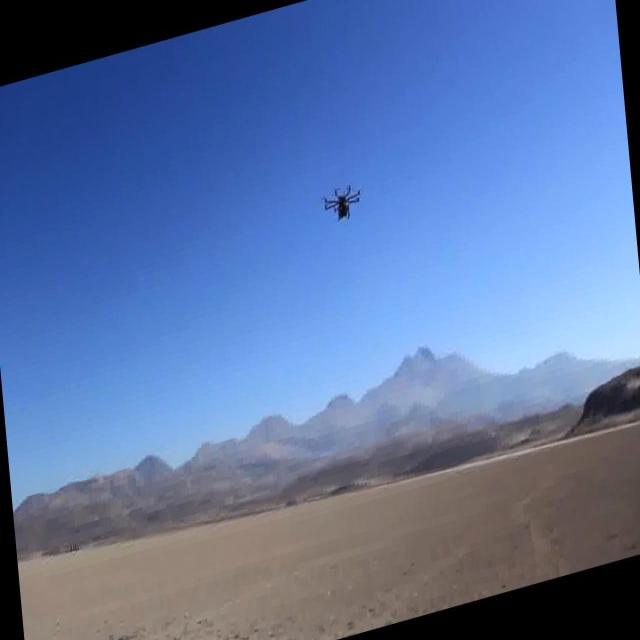drone: (319, 172, 362, 230)
